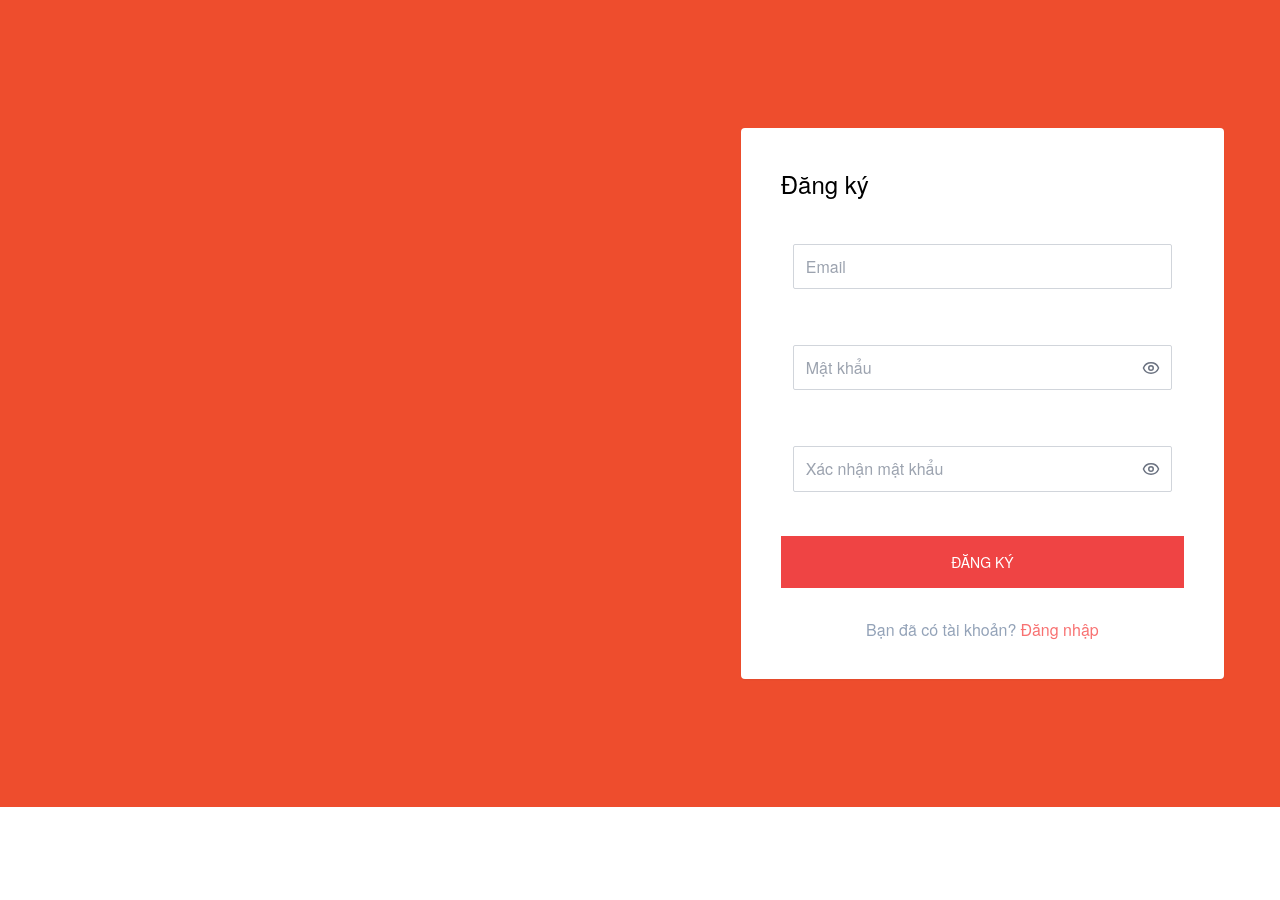
Test: Register page › shows validation error for empty email on submit
The image size is (1280, 900).
Click the button "Đăng ký".
click(982, 562)  # box [781,536,1184,588]
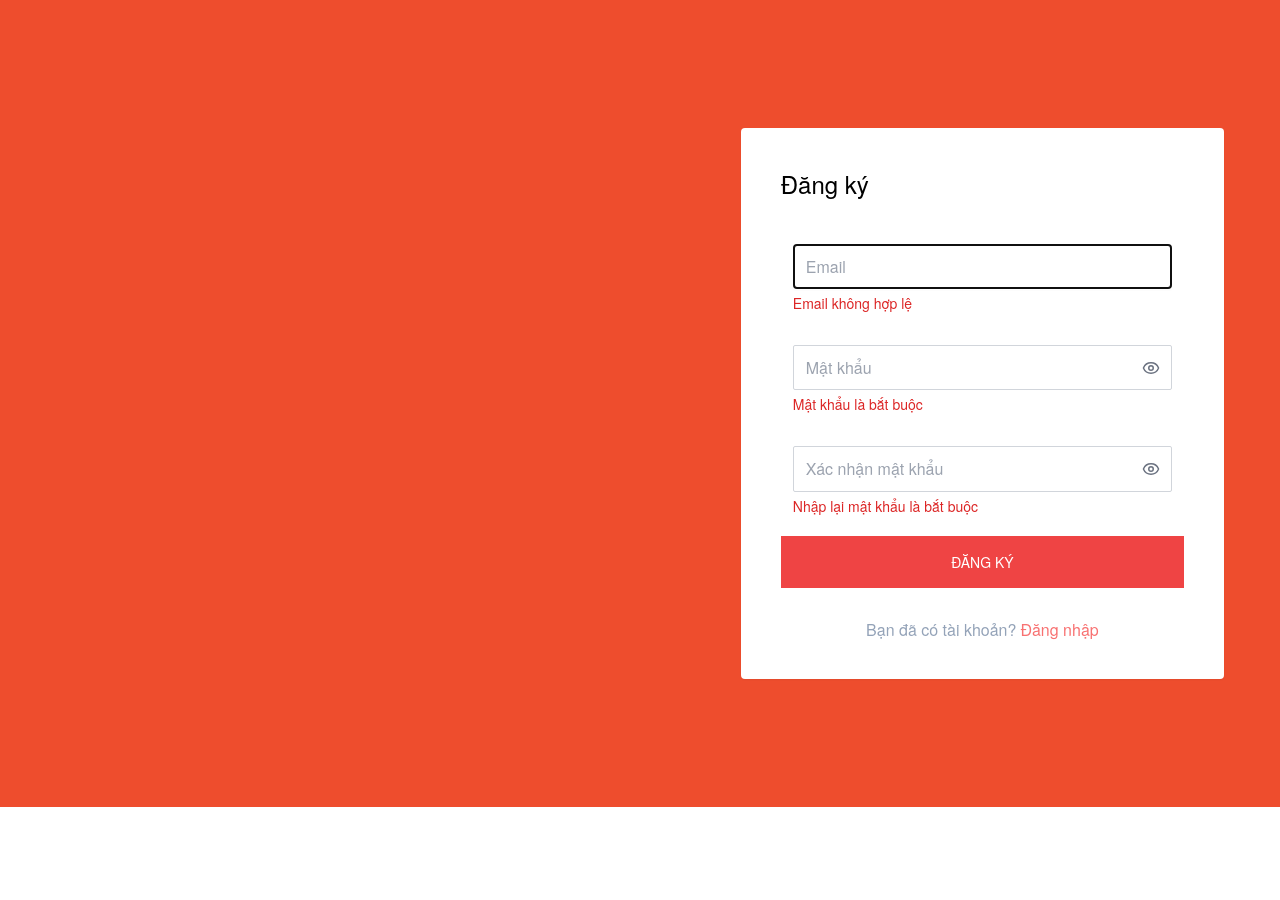
Expected: the text "Email không hợp lệ" is shown, [793,293,912,313]
